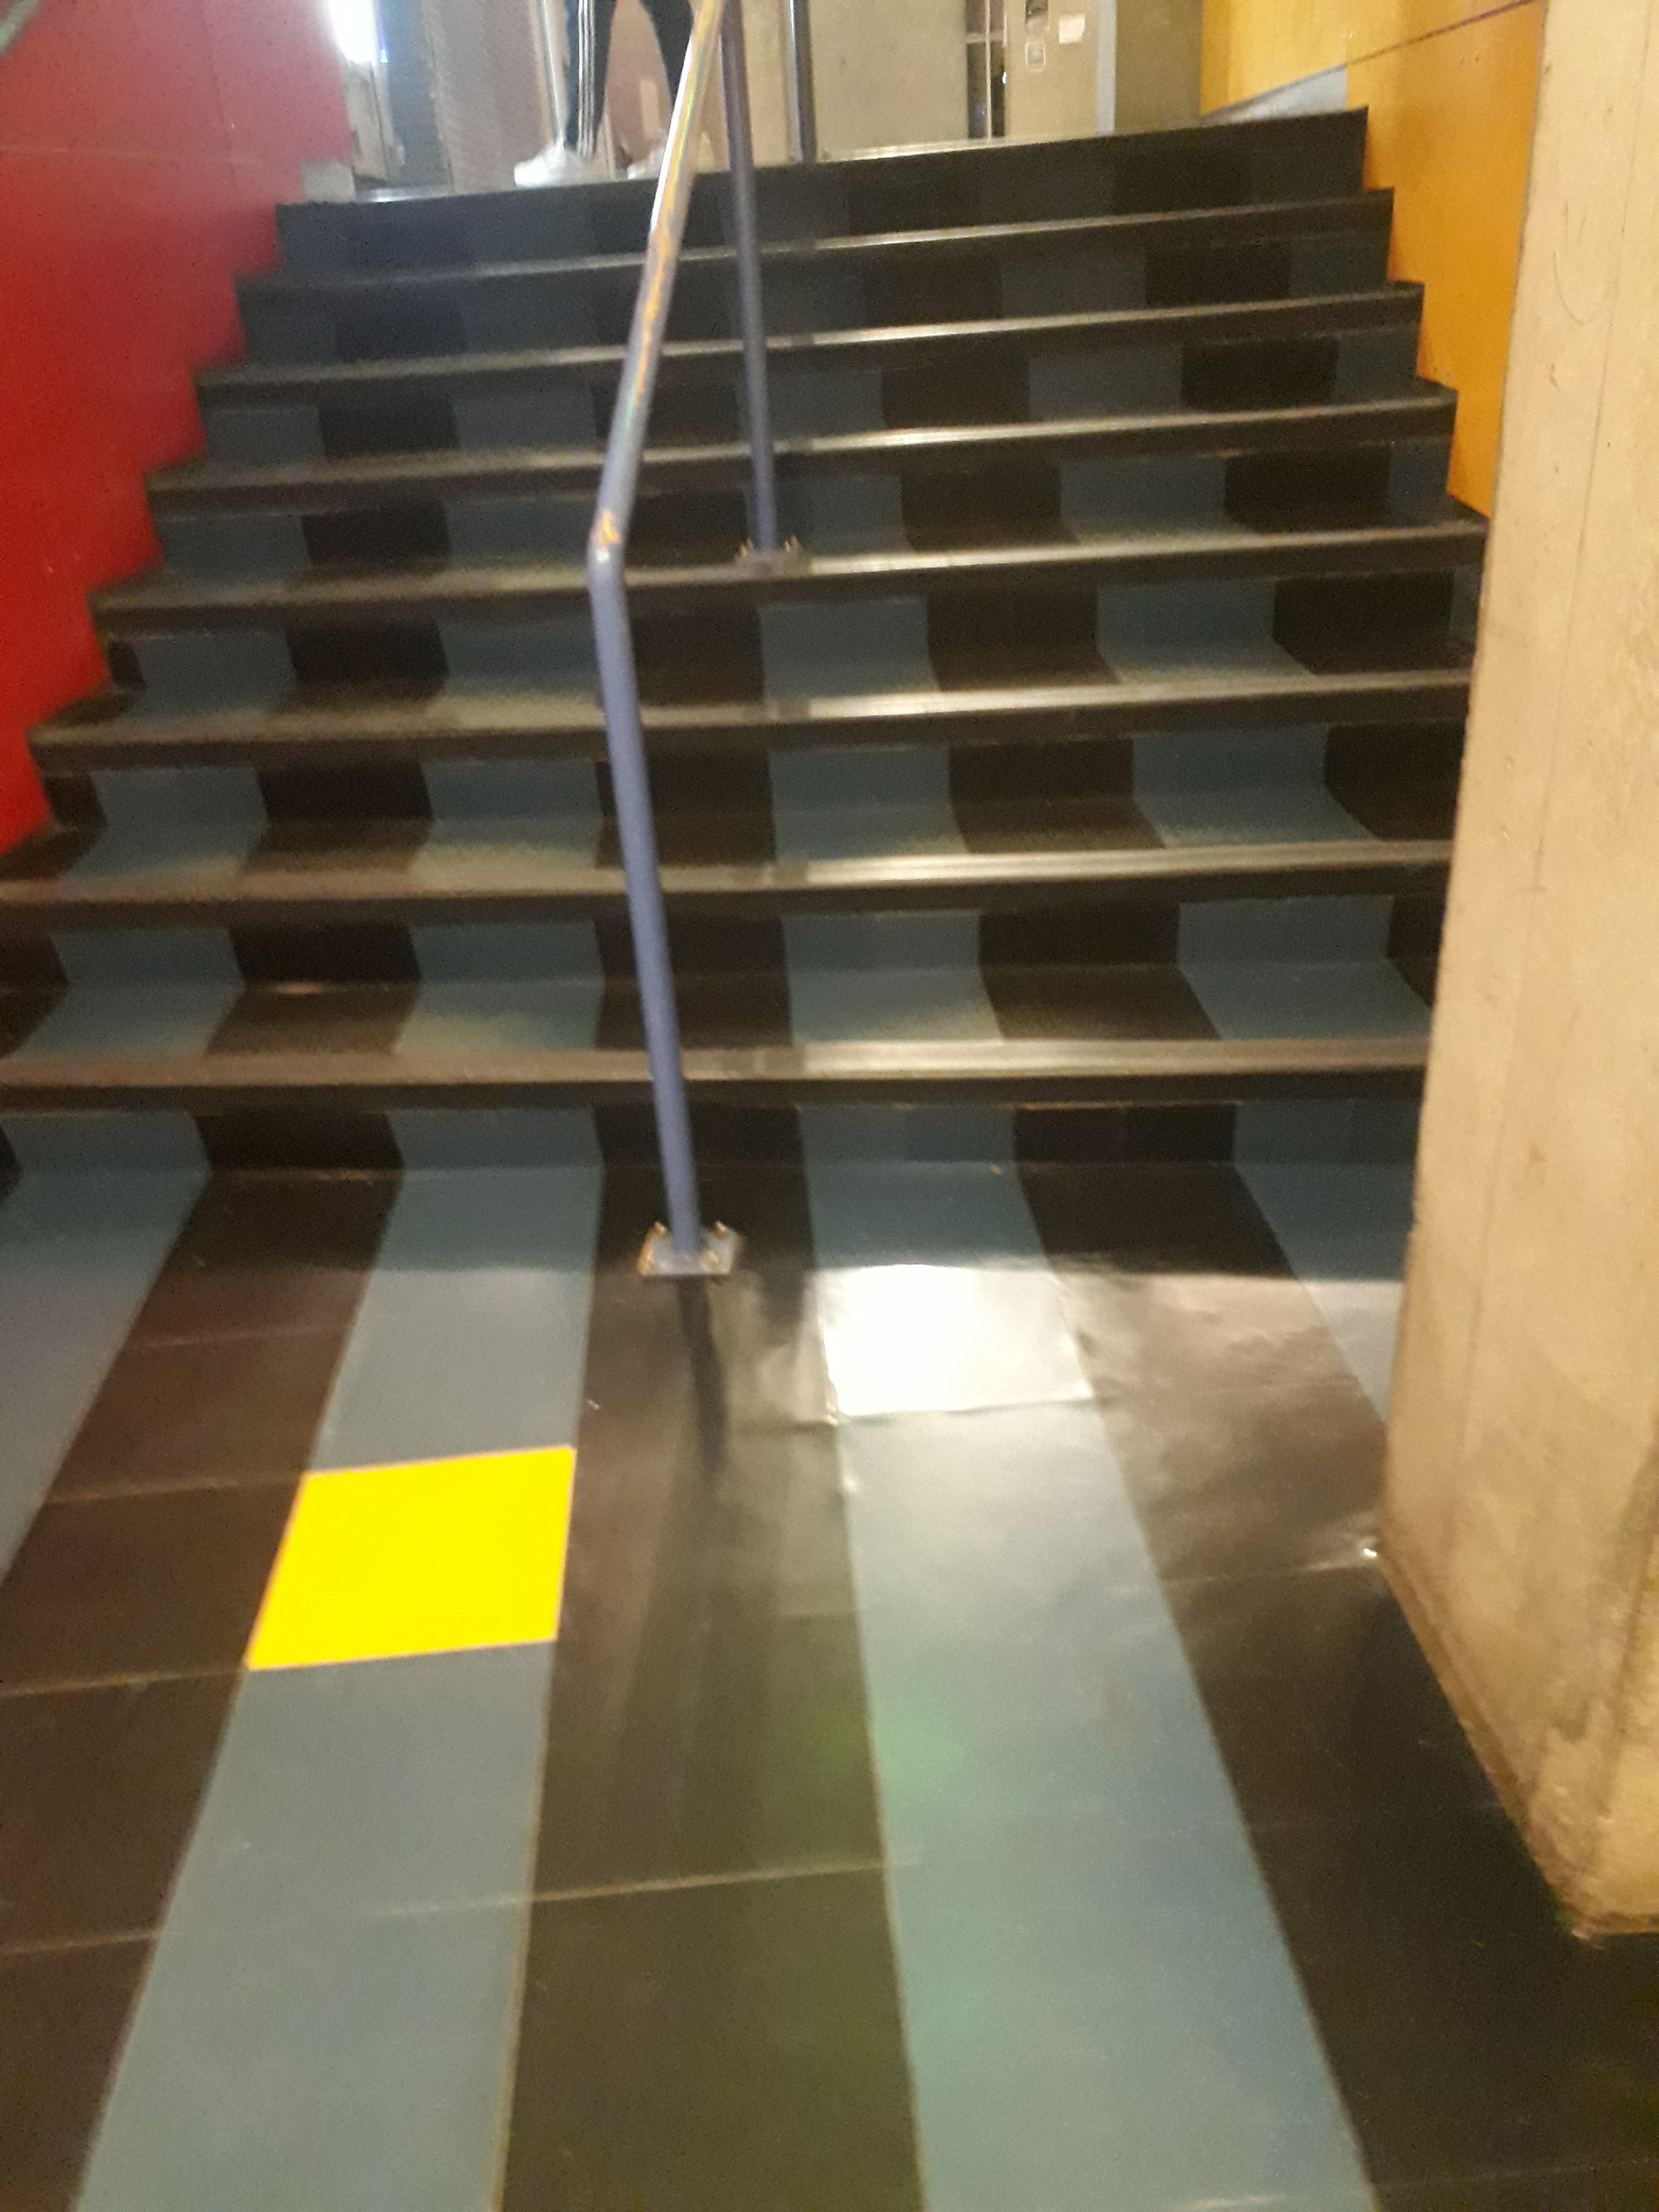stair: (0, 113, 1492, 1169)
